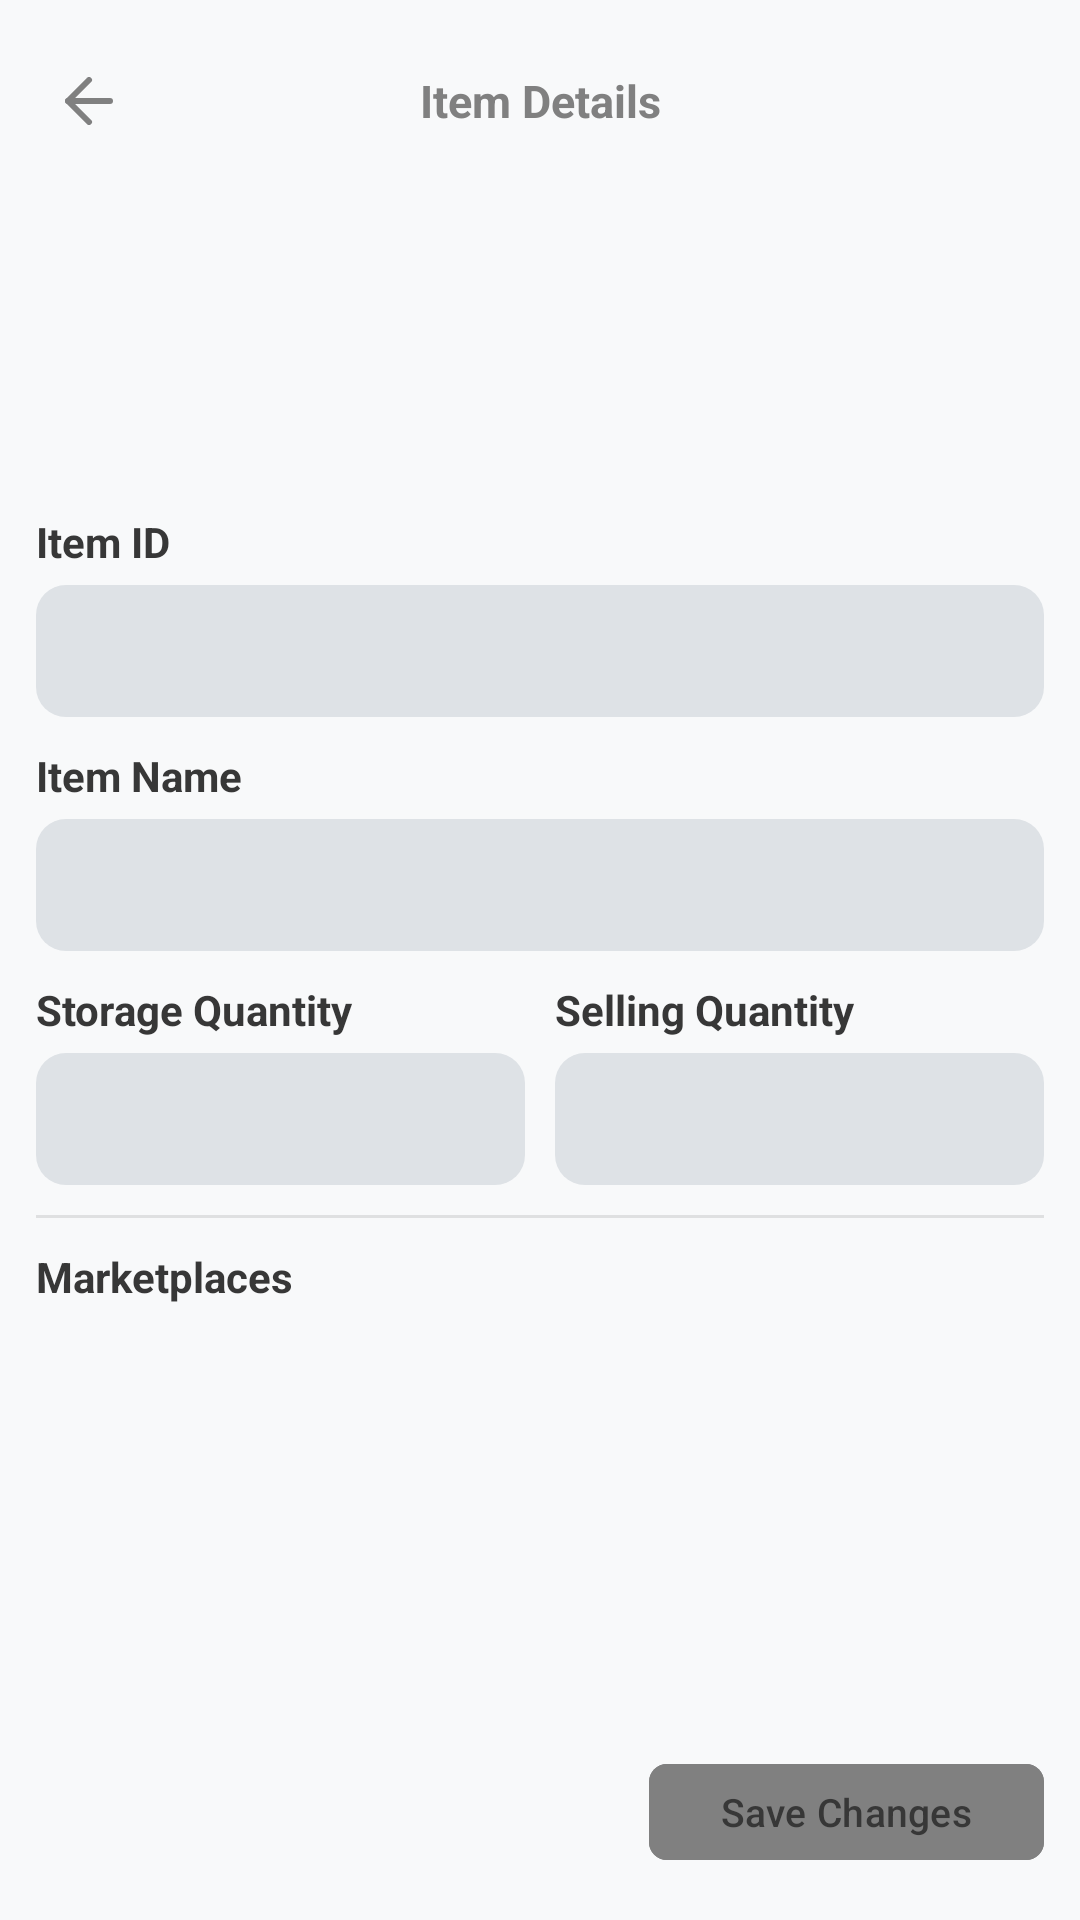

Where to tap for icons on this 1080x1920 app screen, as point (x, y):
Left Arrow: point (89, 101)
